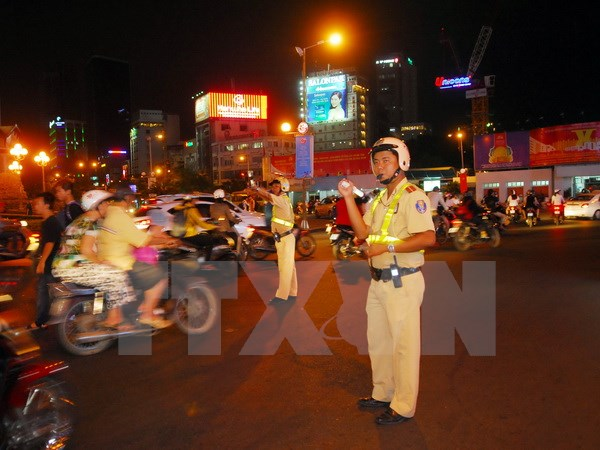police: (328, 130, 447, 429)
